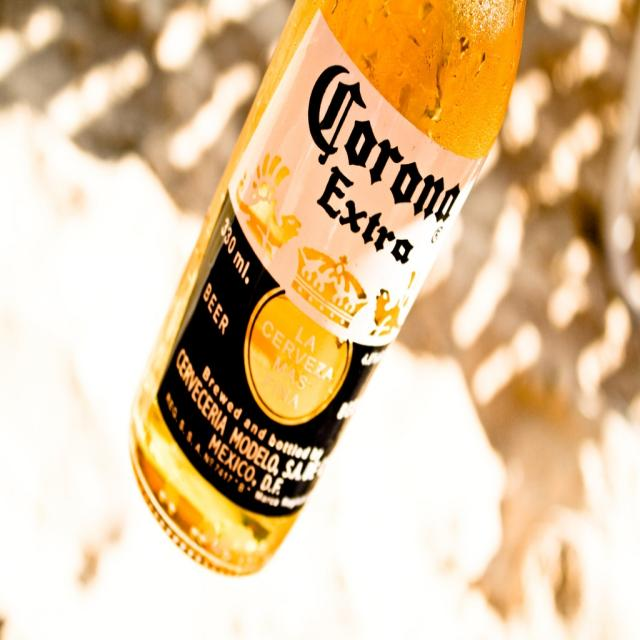corona: (157, 10, 486, 520)
